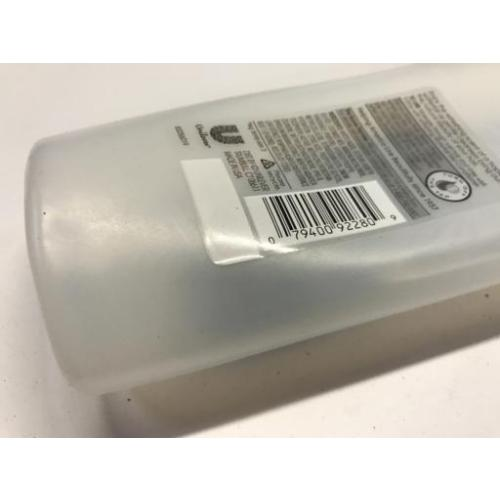plastic: (26, 65, 499, 399)
